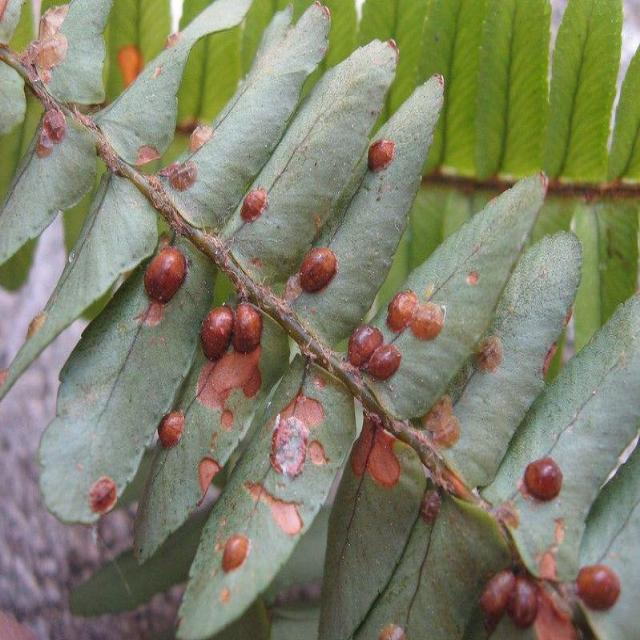Black Scale: (200, 302, 262, 361), (479, 569, 541, 628), (22, 4, 68, 73), (386, 290, 445, 340), (348, 325, 401, 380), (143, 243, 189, 304), (574, 565, 621, 611), (522, 457, 563, 502), (301, 247, 337, 293), (221, 532, 250, 575), (473, 336, 504, 374), (367, 137, 396, 175), (90, 476, 118, 515), (239, 187, 268, 223), (158, 410, 184, 449), (167, 159, 196, 191), (419, 485, 441, 524), (43, 108, 66, 145)
